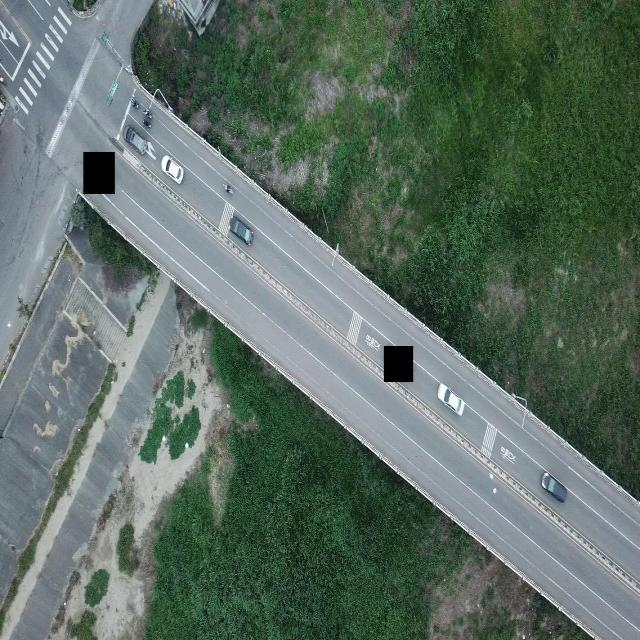bike: (223, 181, 232, 193)
car: (540, 470, 567, 503), (123, 123, 149, 156), (438, 384, 464, 416), (230, 214, 254, 247), (162, 154, 184, 183)
